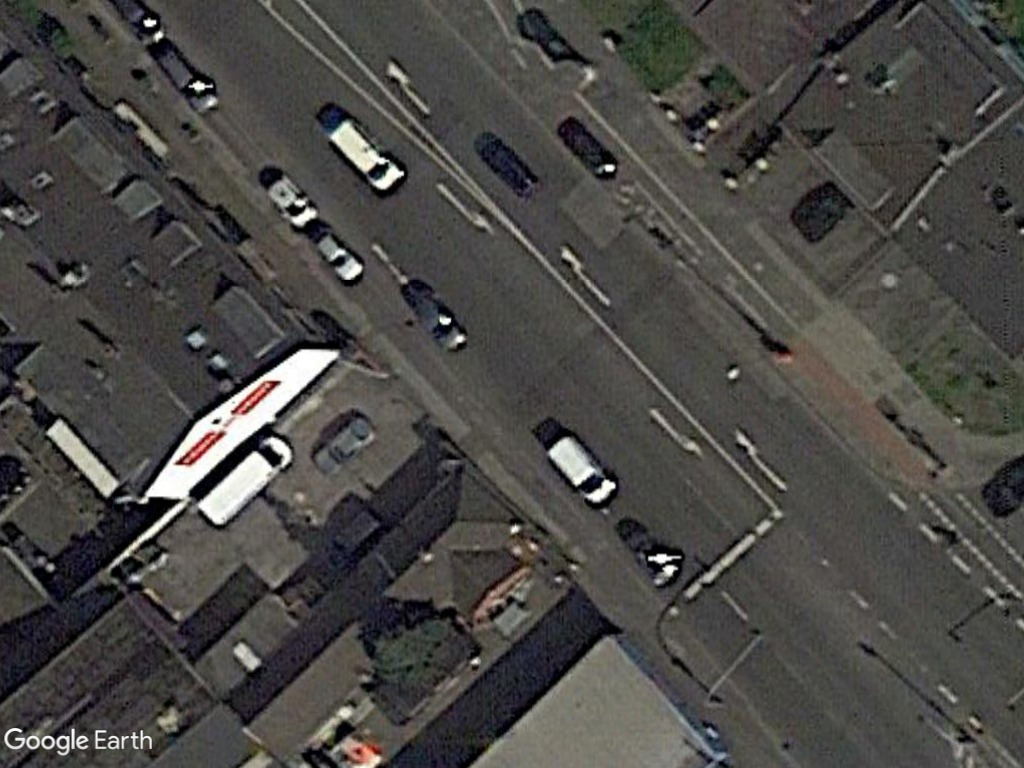van: (190, 426, 298, 535), (322, 109, 410, 195), (539, 426, 621, 512), (302, 411, 386, 479), (307, 224, 371, 296), (256, 160, 319, 231)
